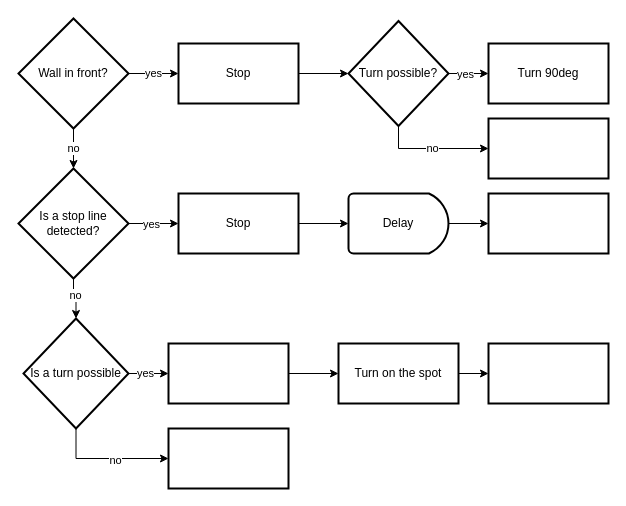
Image size: 626x506. Some labels were removed from this diagram. Here are the shapes that lost their labels. From the top down, the box of each, then its label:
(487, 117, 609, 179): 180deg Turn back
(487, 192, 609, 254): Drive Forward
(167, 342, 289, 404): go forward to the side-streets center
(487, 342, 609, 404): Drive forward into the street
(167, 427, 289, 489): Drive Forward (PID controlled)
